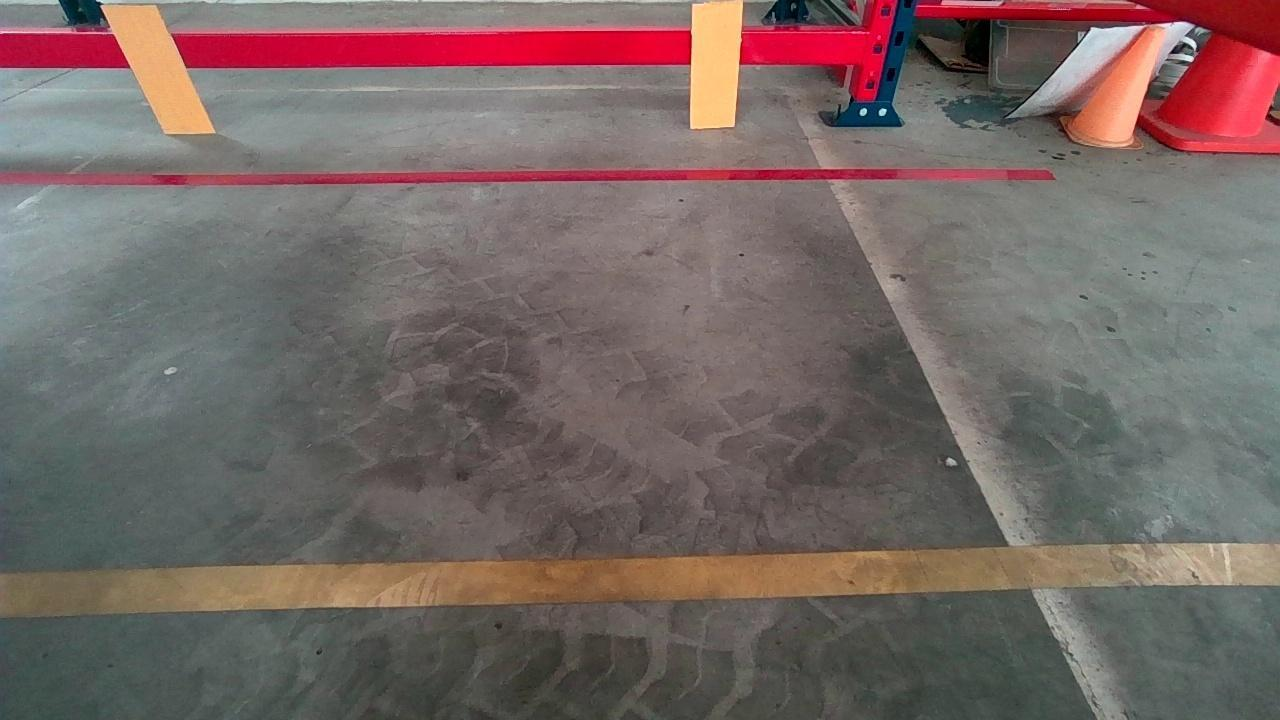h_rack: (5, 22, 865, 68)
orange_strip: (101, 4, 217, 132), (690, 2, 741, 126)
red_line: (7, 159, 1050, 204)
yellow_line: (2, 539, 1269, 621)
